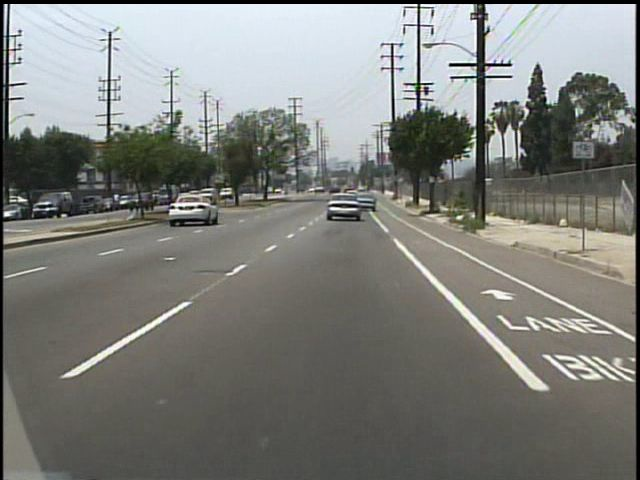person: (113, 191, 122, 210)
